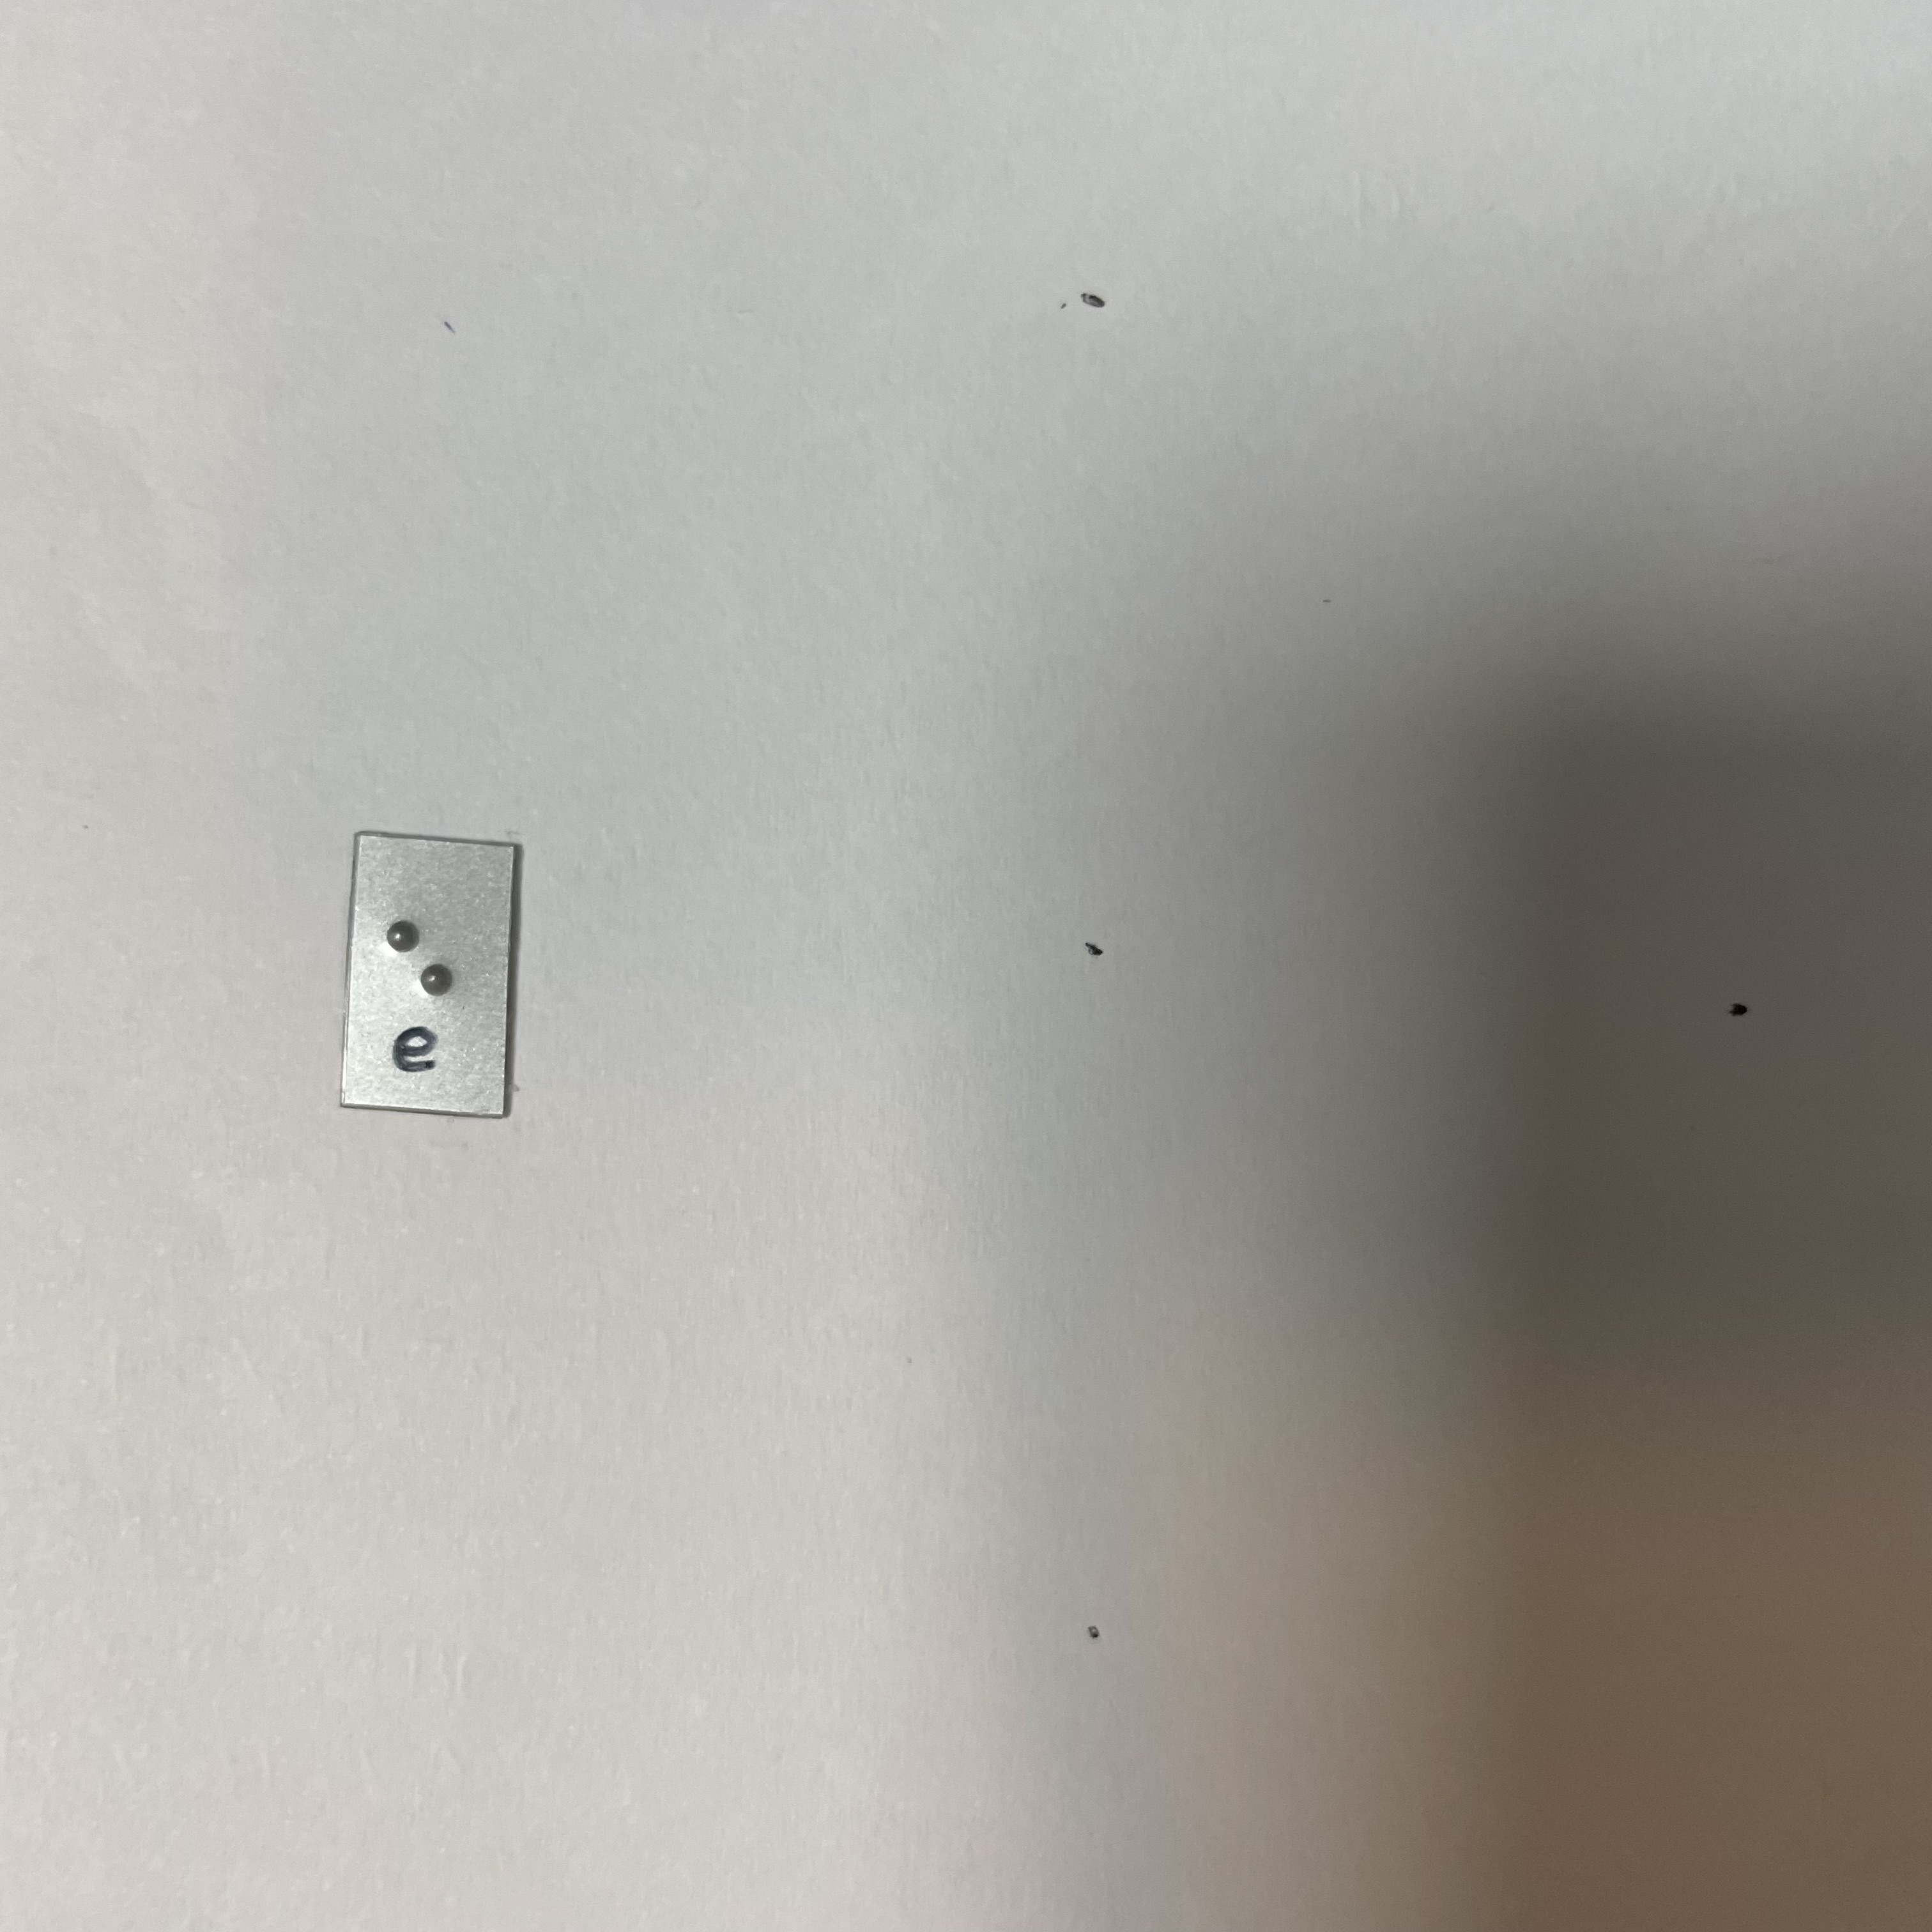e: (367, 890, 483, 1022)
